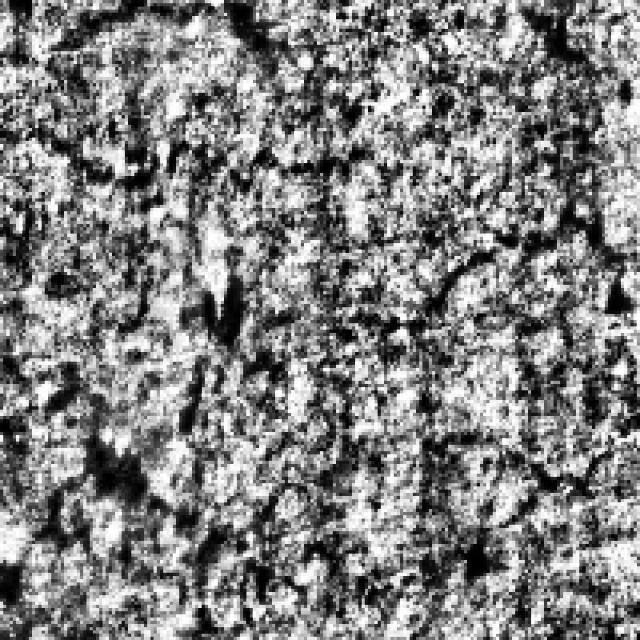Pitted_Surface: (3, 410, 611, 618), (3, 0, 384, 182), (321, 195, 634, 336)
